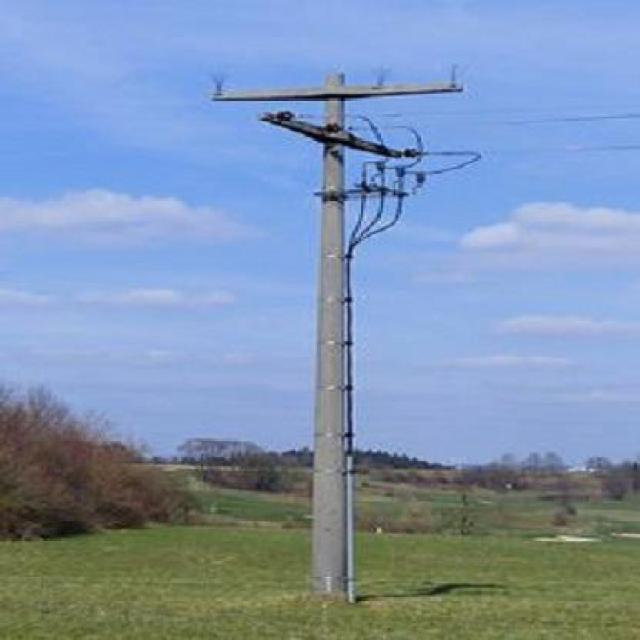light_pole: (297, 69, 373, 593)
